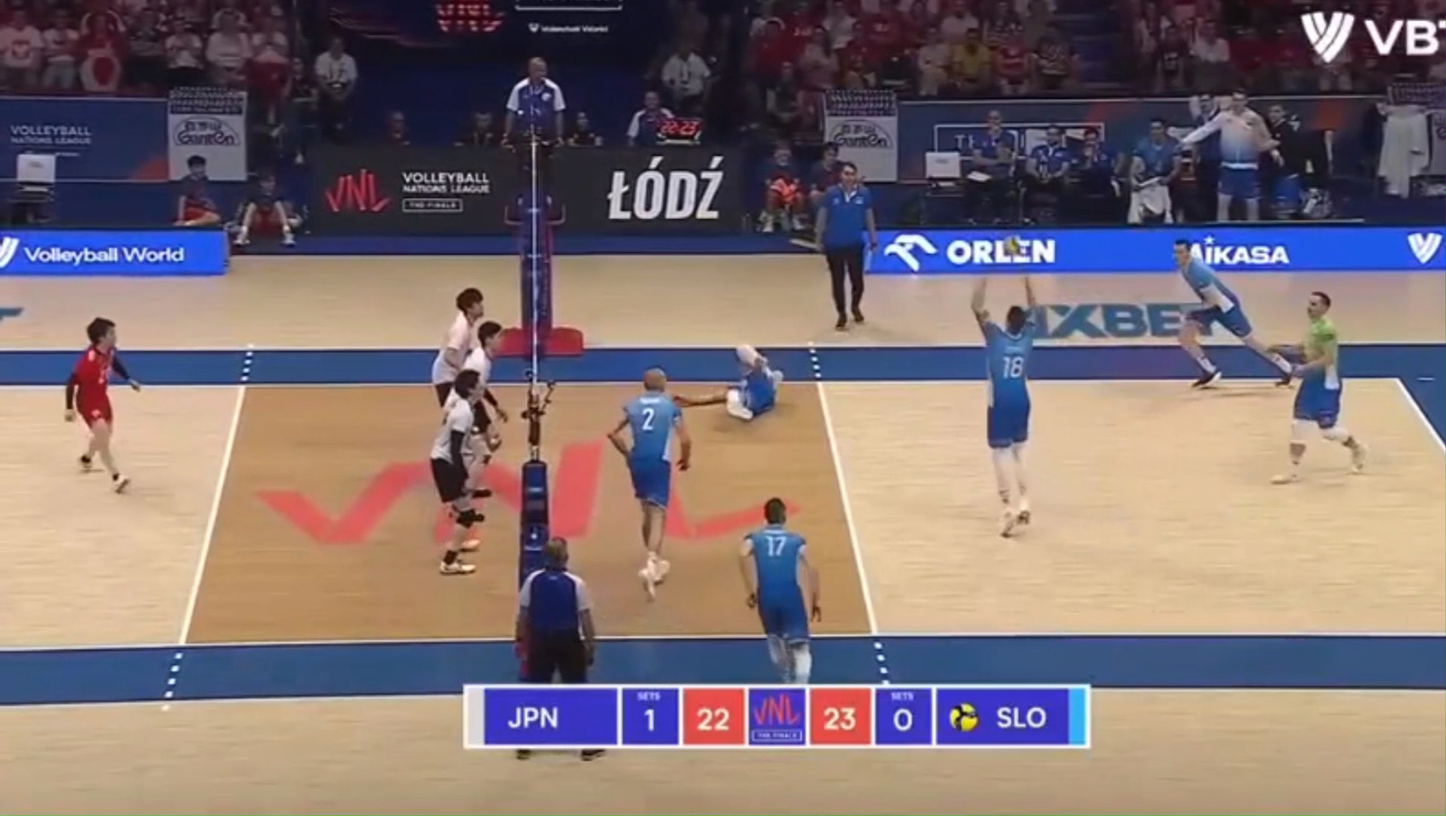ball: (1004, 236, 1021, 255)
player: (609, 367, 691, 598), (1268, 291, 1366, 484), (1173, 240, 1292, 387), (971, 277, 1038, 536), (740, 497, 820, 684), (674, 344, 783, 422)
player 1: (65, 317, 140, 491), (429, 370, 485, 574), (431, 287, 484, 404), (463, 321, 502, 385)
referee: (516, 537, 595, 683), (504, 57, 566, 225), (815, 161, 876, 329)
